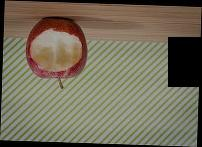rotten apple: (24, 14, 91, 81)
